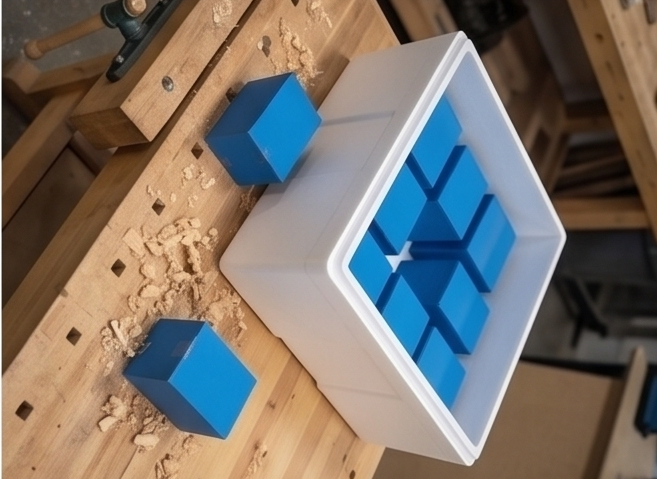blue_box: (398, 37, 535, 159), (335, 292, 450, 406), (140, 184, 247, 285), (167, 122, 264, 218), (169, 237, 248, 331), (228, 222, 289, 316), (192, 291, 252, 386), (192, 63, 247, 155), (226, 117, 284, 201), (262, 169, 311, 249)
container_box: (88, 15, 443, 447)
